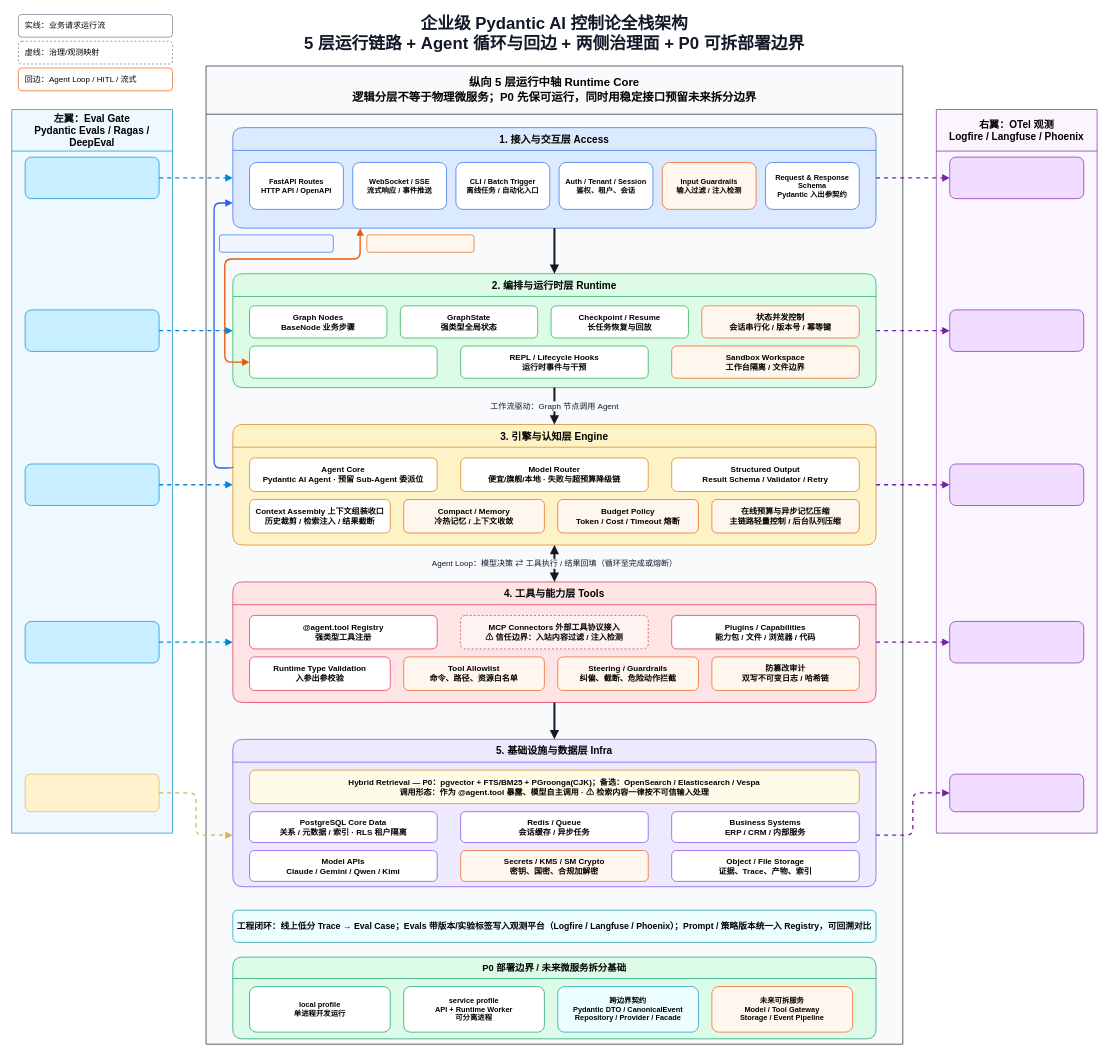
Some shapes in this 1109 by 1056 pixel diagram are drawn without their labels. The shapes that lost their labels are listed below. From the top down, each one's centre as x and y in pixels, then its label:
At (x=91, y=177): "Access Evals pytest / Pydantic Evals".
At (x=1016, y=177): "Access Trace 入口请求 / 会话 / 错误率".
At (x=276, y=243): "■ 流式回传 SSE / WS".
At (x=420, y=243): "■ HITL 审批回路".
At (x=91, y=330): "Runtime Evals 图路径 / 死锁 / 恢复".
At (x=1016, y=330): "Runtime Spans GraphState / 分支 / HITL".
At (x=343, y=361): "HITL Gate 人工确认 / 审批点".
At (x=91, y=484): "Engine Evals Pydantic Evals / DeepEval".
At (x=1016, y=484): "Engine Metrics Token / Compact / 熔断".
At (x=91, y=642): "RAG / Tool Evals Ragas / Mock / Safety".
At (x=1016, y=642): "Tool I/O Audit 脱敏 / 越权 / 失败回放".
At (x=91, y=793): "Release Gate 集成冒烟 / 阈值门禁".
At (x=1016, y=793): "Infra Trace DB / Queue / Model API".
